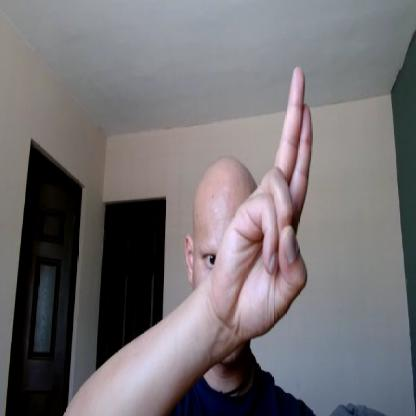U: (216, 62, 312, 344)
